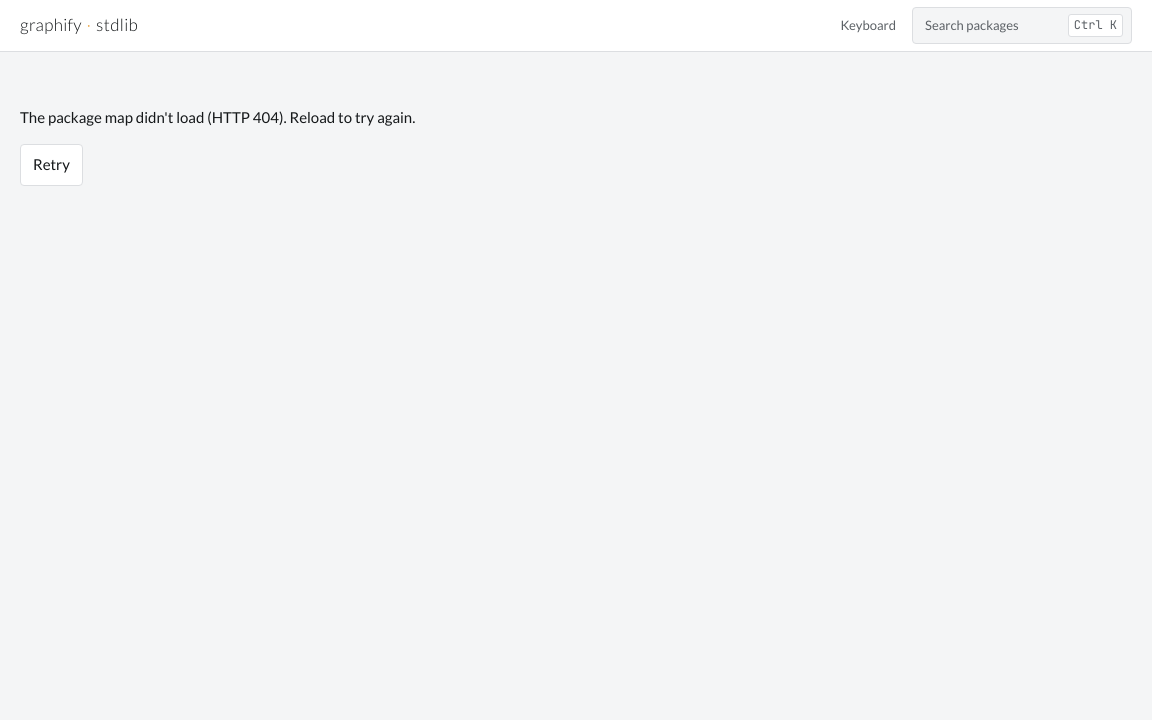
it: App loading › tells a visitor the map did not load, and Retry fetches it again
Expected: the message shows "The package map didn't load (HTTP 404). Reload to try again.", [20,108,415,126]
What coordinates should you click on to do the following:
click the button "Retry"
I would click on:
 (51, 165)
Its box is [20,144,83,186].
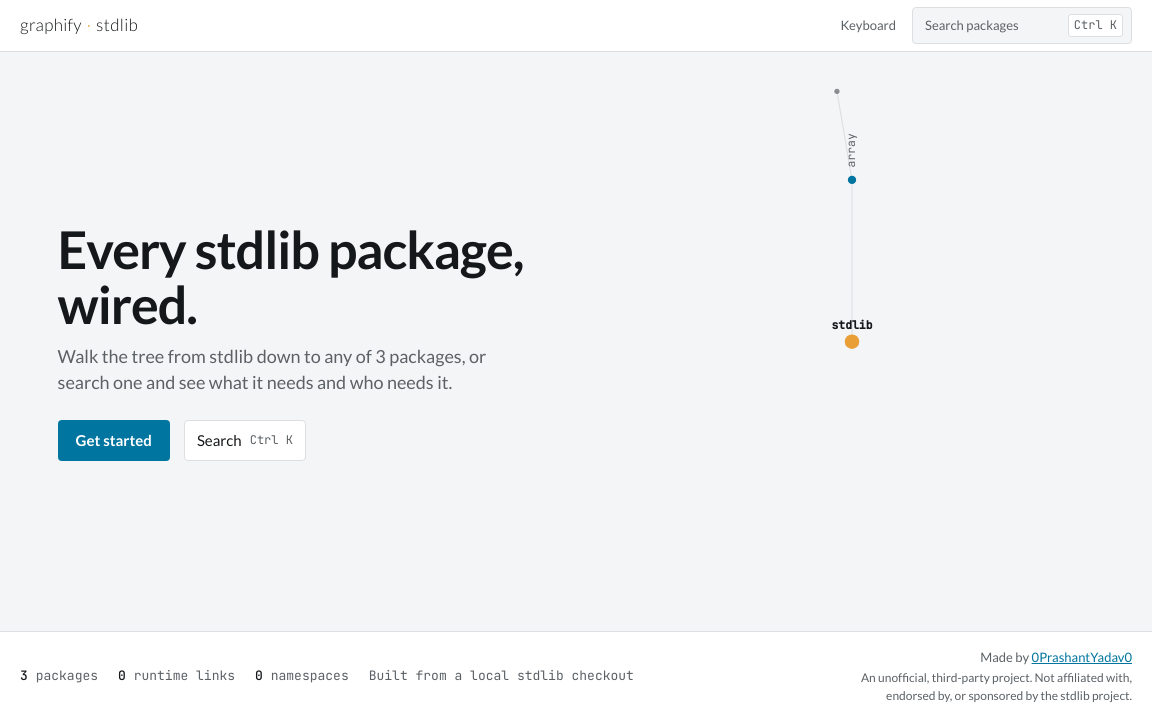
Now the heading "Every stdlib package, wired." is shown, box [58,222,524,331]
